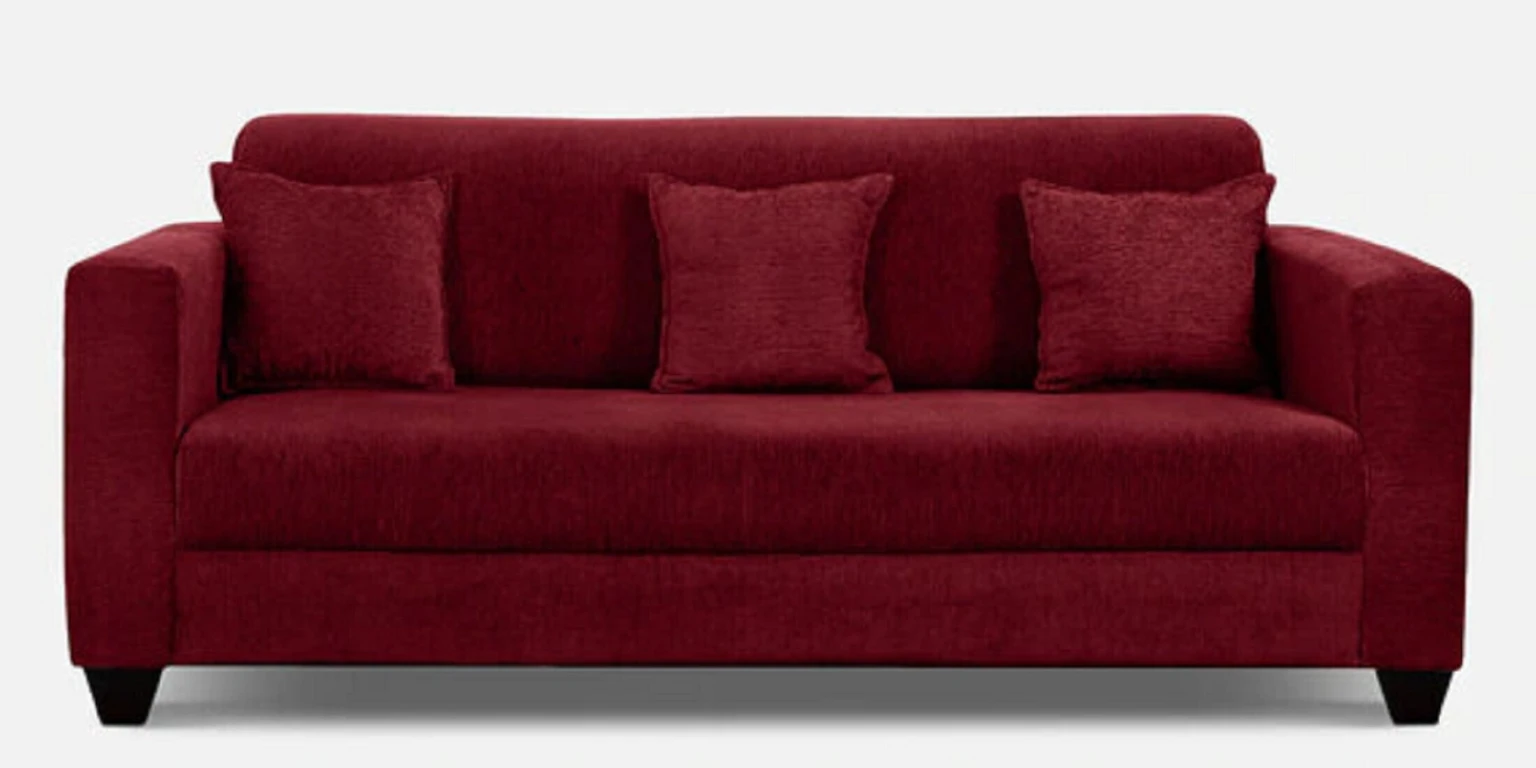3seatersofa: (61, 116, 1470, 723)
backrest: (232, 117, 1267, 390)
base: (127, 551, 1358, 665)
leftarmrest: (1267, 227, 1472, 672)
leg: (83, 668, 161, 724), (1376, 669, 1453, 725)
pillow: (1020, 174, 1273, 391), (211, 163, 452, 388), (649, 174, 892, 390)
rightarmrest: (64, 224, 224, 666)
seat: (173, 387, 1366, 555)
